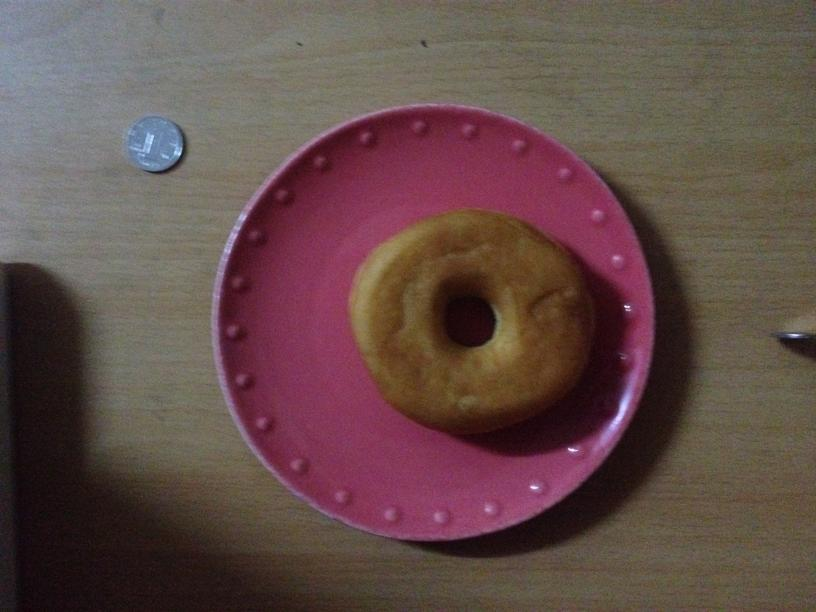coin: (124, 114, 186, 172)
doughnut: (346, 214, 583, 421)
